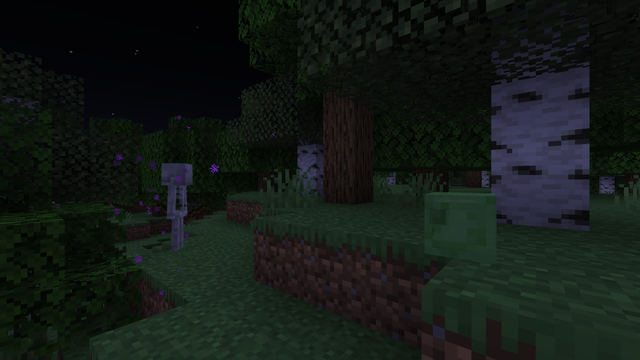slimes: (420, 189, 500, 264)
squelettes: (158, 163, 195, 253)
